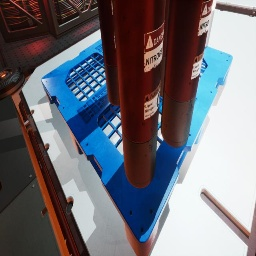0: (205, 0, 217, 48)
NitrogenTank ,: (112, 0, 166, 188), (161, 0, 213, 148), (97, 0, 120, 106), (160, 0, 169, 98)
